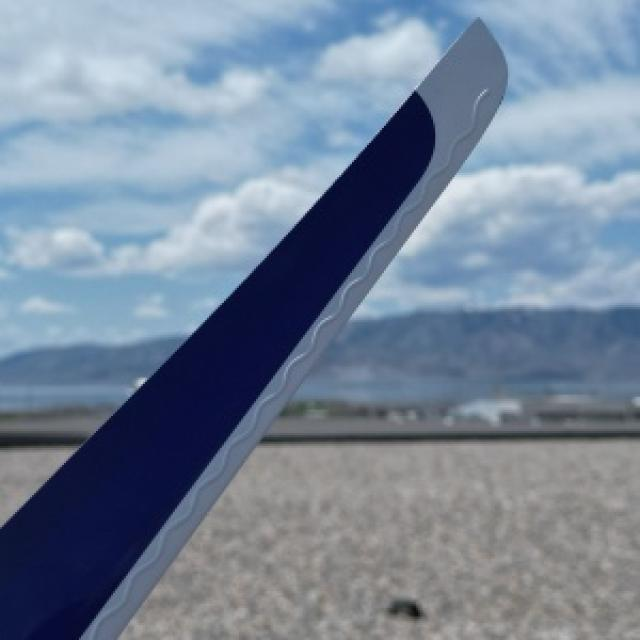healthy: (0, 19, 506, 638)
